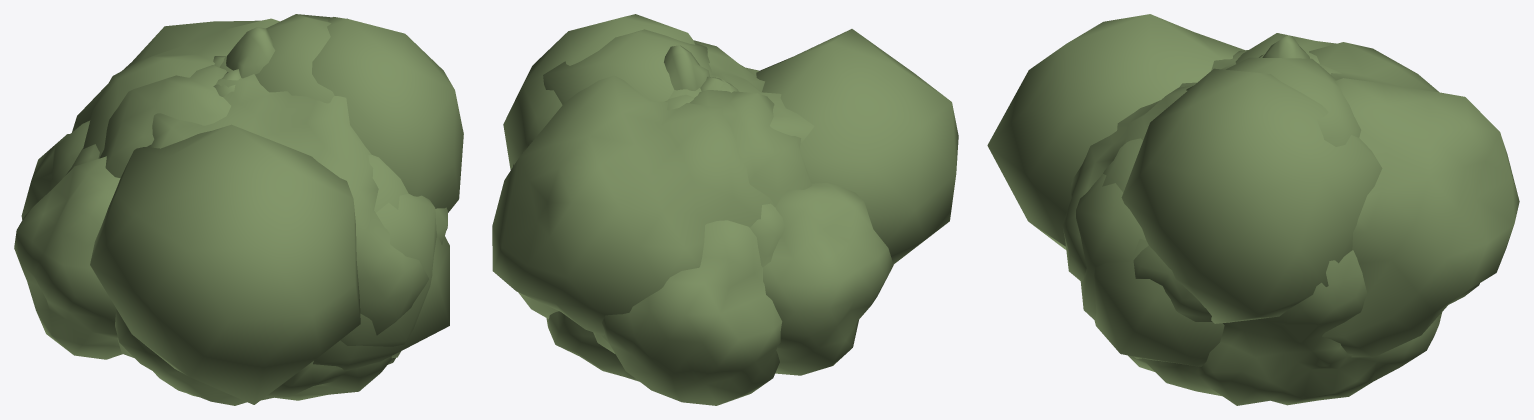
File: shrubs.glb
3 views of the same model, side by side, from view 1: azimuth 30°, elevation 25°; view 2: azimuth 150°, elevation 25°; view 3: azimuth 270°, elevation 25° (orthographic). The views are drawn at different scales.
Parts seen in each view (by area): view 1: karagana_LOD0, rosehip_LOD0, willow_LOD0; view 2: karagana_LOD0, rosehip_LOD0, willow_LOD0; view 3: karagana_LOD0, rosehip_LOD0, willow_LOD0.
Part boxes in pixels (<box>): karagana_LOD0: <box>14,17,463,405</box>; rosehip_LOD0: <box>99,14,449,370</box>; willow_LOD0: <box>213,27,275,96</box>; karagana_LOD0: <box>492,14,958,405</box>; rosehip_LOD0: <box>543,29,811,206</box>; willow_LOD0: <box>664,45,738,92</box>; karagana_LOD0: <box>987,14,1519,405</box>; rosehip_LOD0: <box>1094,33,1361,366</box>; willow_LOD0: <box>1259,35,1309,58</box>.
Size of what is drawn, in the model's own units: 1.22 by 1 by 1.41.
